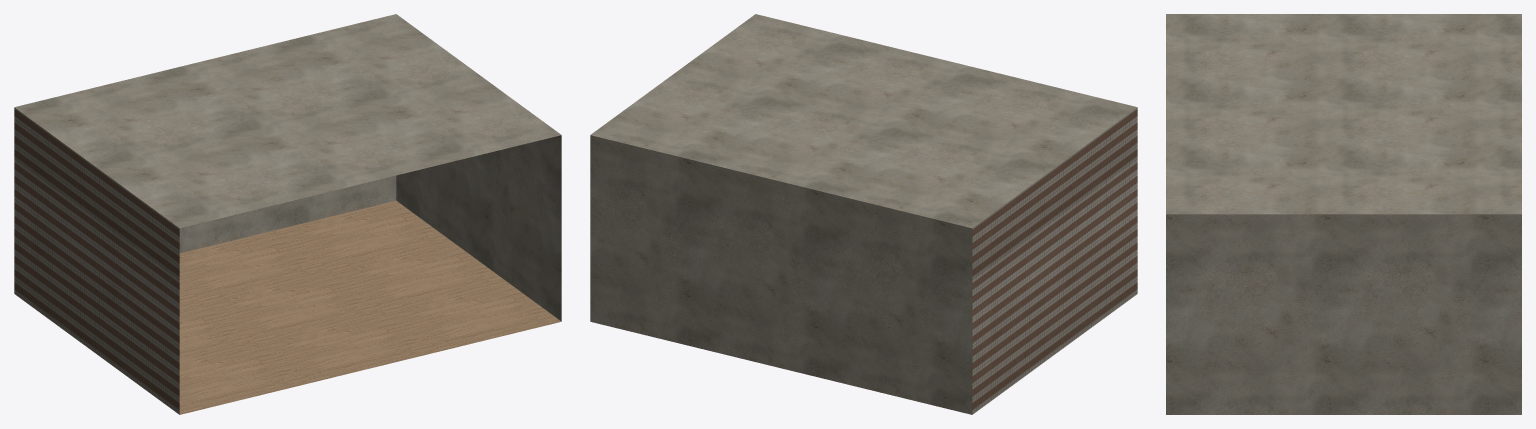
Rendered from room-BoPdT_x-.glb.
3 renders of one model, left to right at view 1: azimuth 30°, elevation 25°; view 2: azimuth 150°, elevation 25°; view 3: azimuth 270°, elevation 25°, orthographic. The views are drawn at different scales.
Visible parts, largest first — view 1: white_plaster_02 (×3), laminate_floor_02, square_tiled_wall; view 2: white_plaster_02 (×2), square_tiled_wall; view 3: white_plaster_02 (×2).
Boxes of the visible parts, x1,y1,x2,y2 form: white_plaster_02 (×3): (14, 14, 561, 321); laminate_floor_02: (179, 200, 561, 414); square_tiled_wall: (14, 107, 179, 414); white_plaster_02 (×2): (590, 14, 1137, 414); square_tiled_wall: (972, 107, 1137, 414); white_plaster_02 (×2): (1166, 14, 1521, 414).
Bounding box in the file's own units: 6 × 2.8 × 4.5.
Materials: 3 (3 with a texture image).
